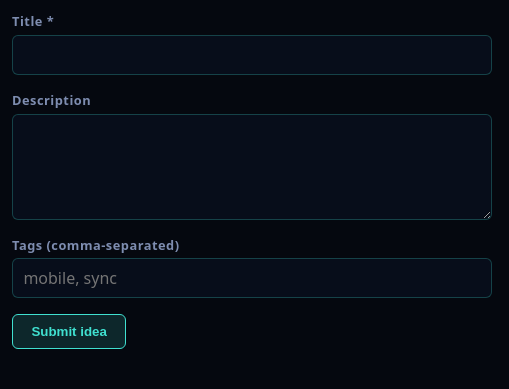
it: IdeaForm › blocks submission and shows an error when the title is empty
The image size is (509, 389).
Click the button "Submit idea". click: (69, 332)
box: x1=12 y1=314 x2=126 y2=349
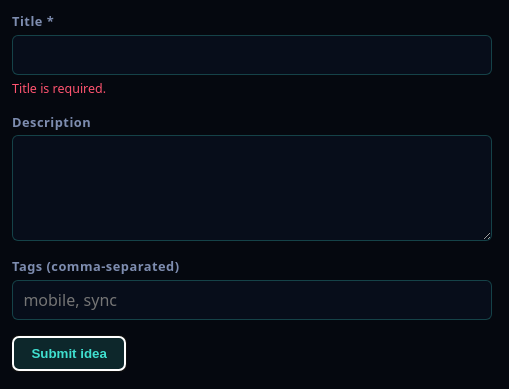
Now the text "Title is required." is shown, box x1=12 y1=80 x2=106 y2=97
